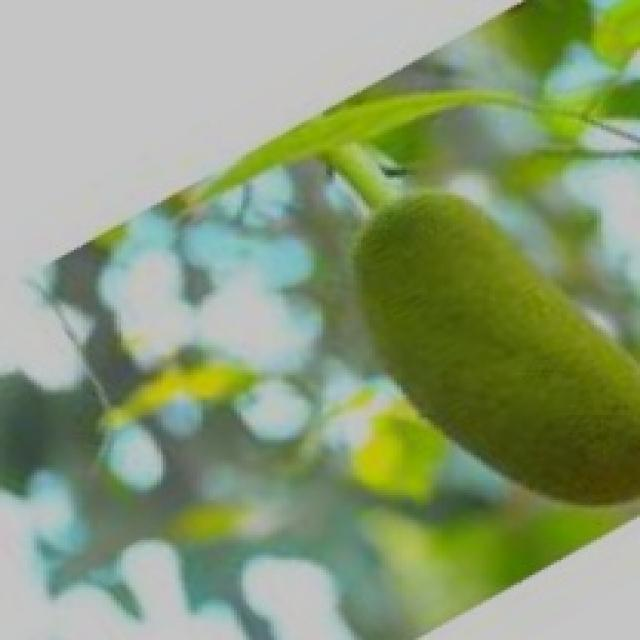Fruit: (307, 152, 640, 547)
